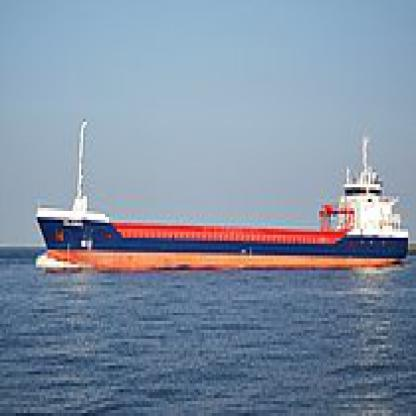Container Ship: (32, 117, 409, 273)
